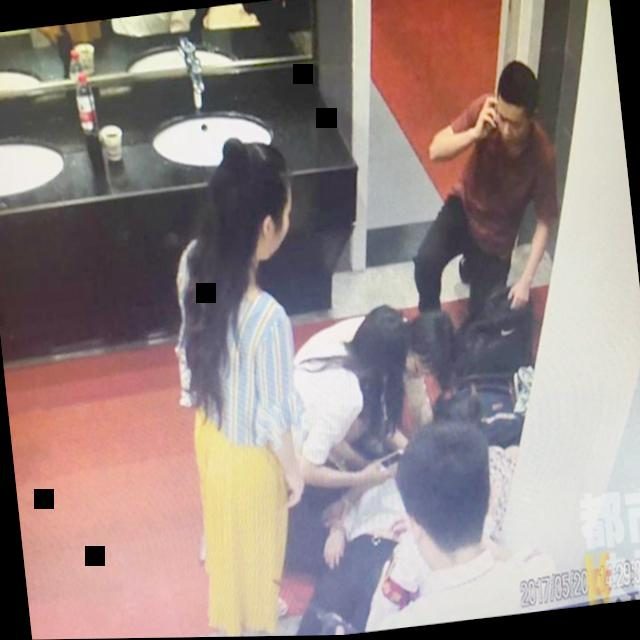Fall-Detected: (239, 415, 448, 637)
